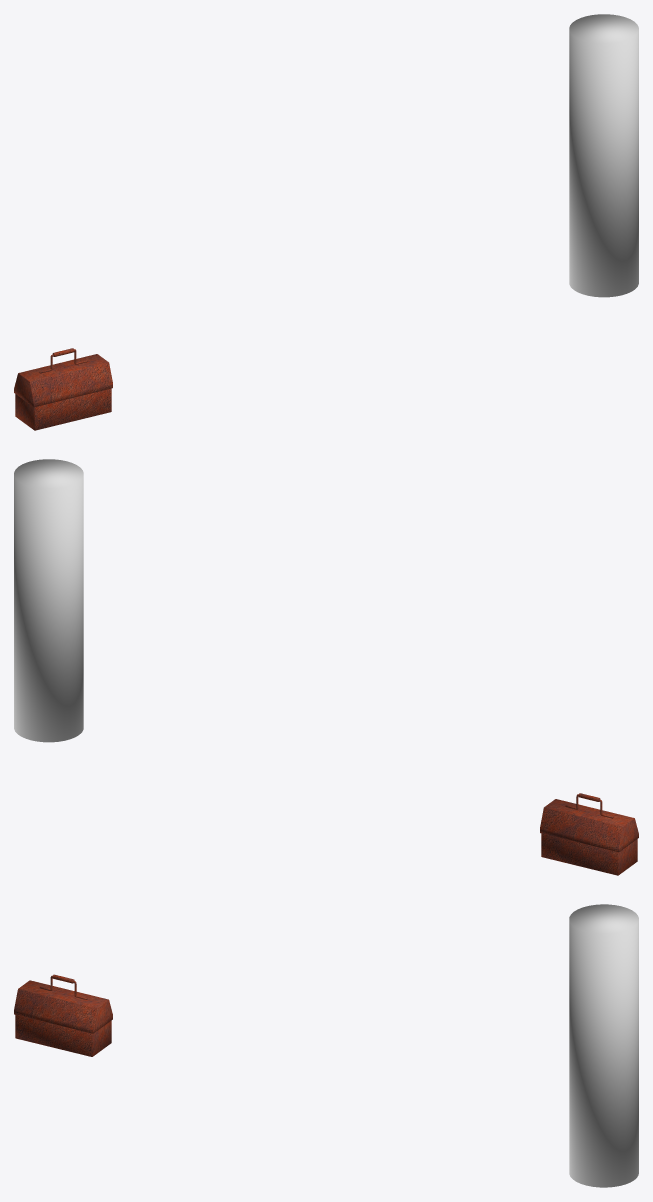
The model's file is toolbox.glb.
3 renders of one model, top to bottom at view 1: azimuth 30°, elevation 25°; view 2: azimuth 150°, elevation 25°; view 3: azimuth 330°, elevation 25°, orthographic.
Visible parts, largest first — view 1: Ref-noimp, Toolbox; view 2: Ref-noimp, Toolbox; view 3: Ref-noimp, Toolbox.
Part boxes in pixels (x1,y1,x2,y2): Ref-noimp: (569,14,638,297); Toolbox: (14,348,112,430); Ref-noimp: (14,459,83,742); Toolbox: (540,793,638,875); Ref-noimp: (569,904,638,1187); Toolbox: (14,974,112,1056).
Bounding box in the file's own units: 5.04 × 2 × 0.5.
1 material, 1 textured.
